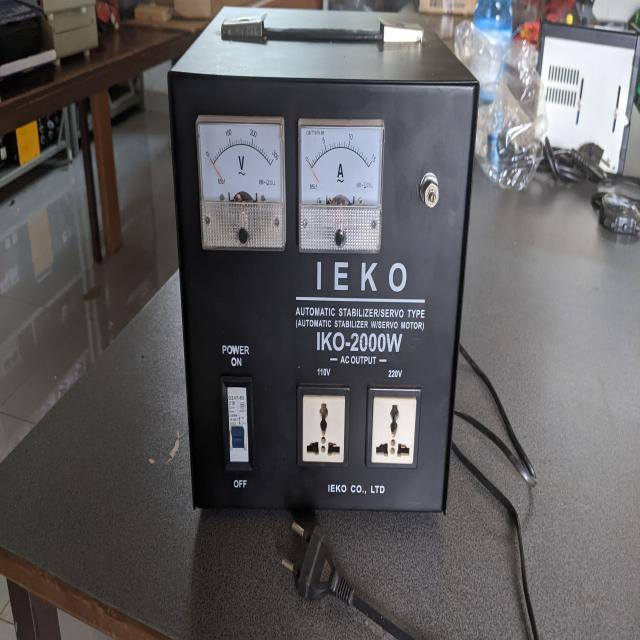AC POWER Stabilizer: (162, 11, 485, 525)
